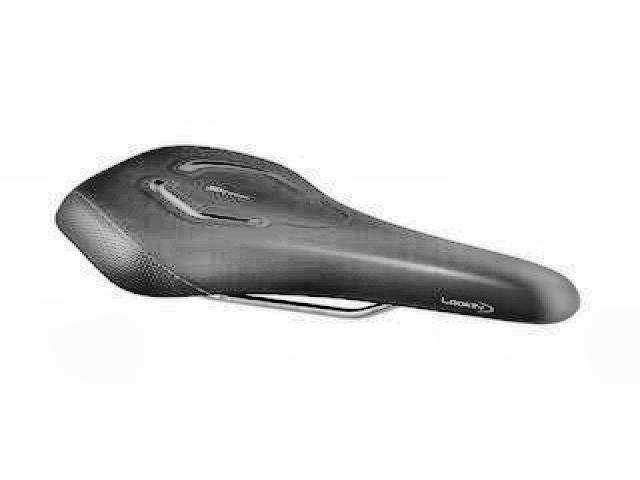saddle: (54, 139, 587, 331)
